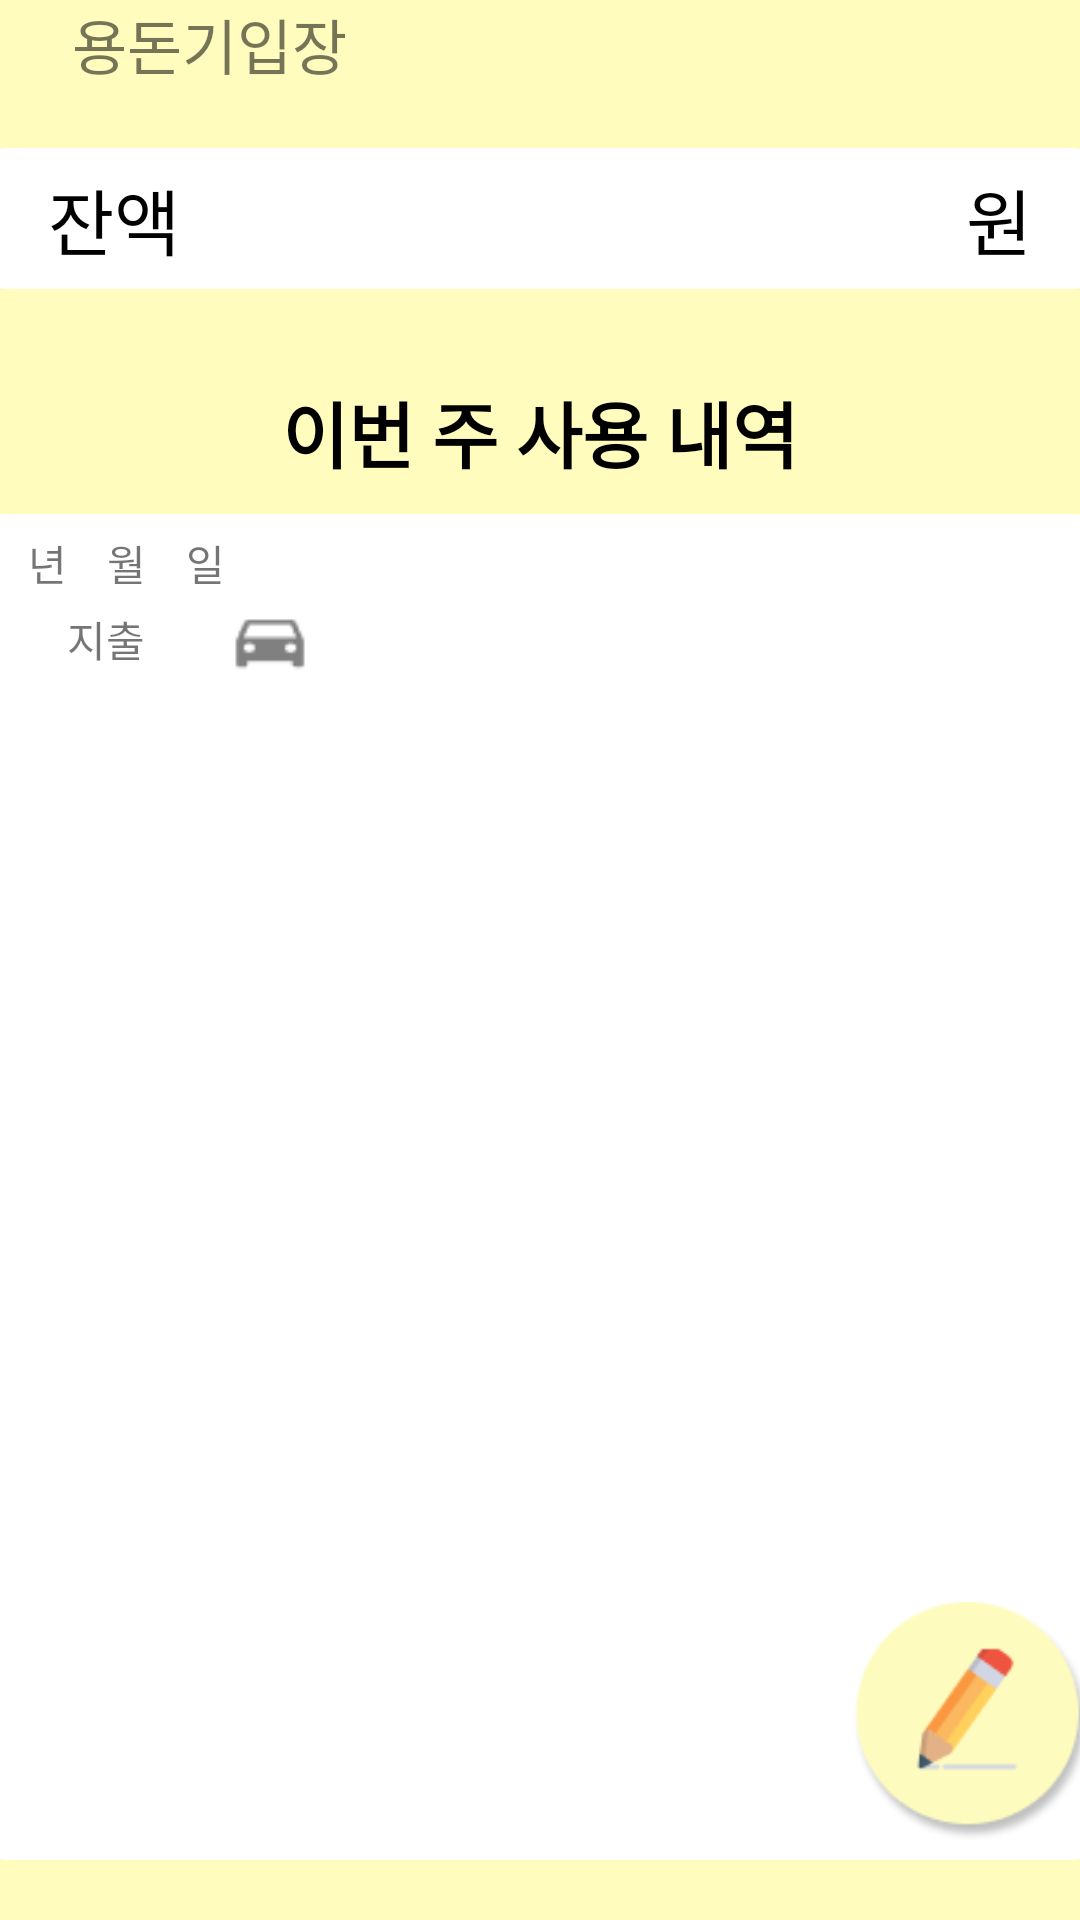

Where to tap for icons on this 1080 x 1920 app screen, as (x=x, y=y):
car: (x=270, y=643)
note: (x=968, y=1718)
